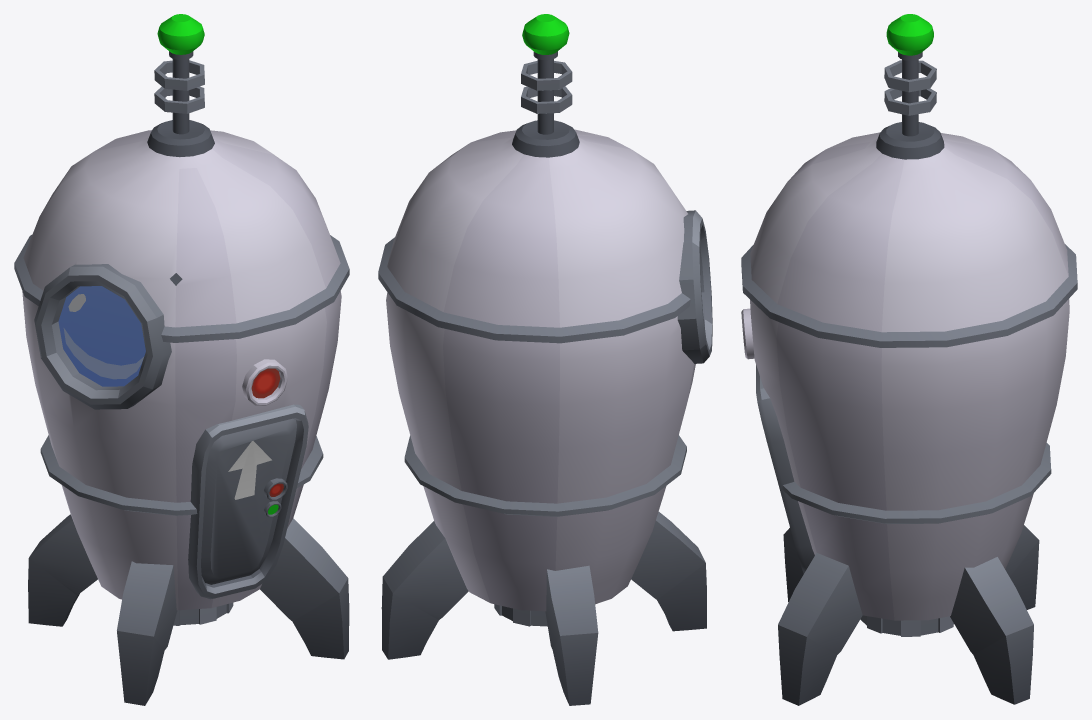
Rendered from Rocket .fbx.
3 views of the same model, side by side, from view 1: azimuth 30°, elevation 25°; view 2: azimuth 150°, elevation 25°; view 3: azimuth 270°, elevation 25° (orthographic).
Parts seen in each view (by area): view 1: Rocket; view 2: Rocket; view 3: Rocket.
Part boxes in pixels (bbox=[...]): Rocket: bbox=[14, 14, 349, 705]; Rocket: bbox=[378, 14, 712, 705]; Rocket: bbox=[741, 14, 1077, 705].
Bounding box in the file's own units: 1.33 × 1.29 × 2.68.
